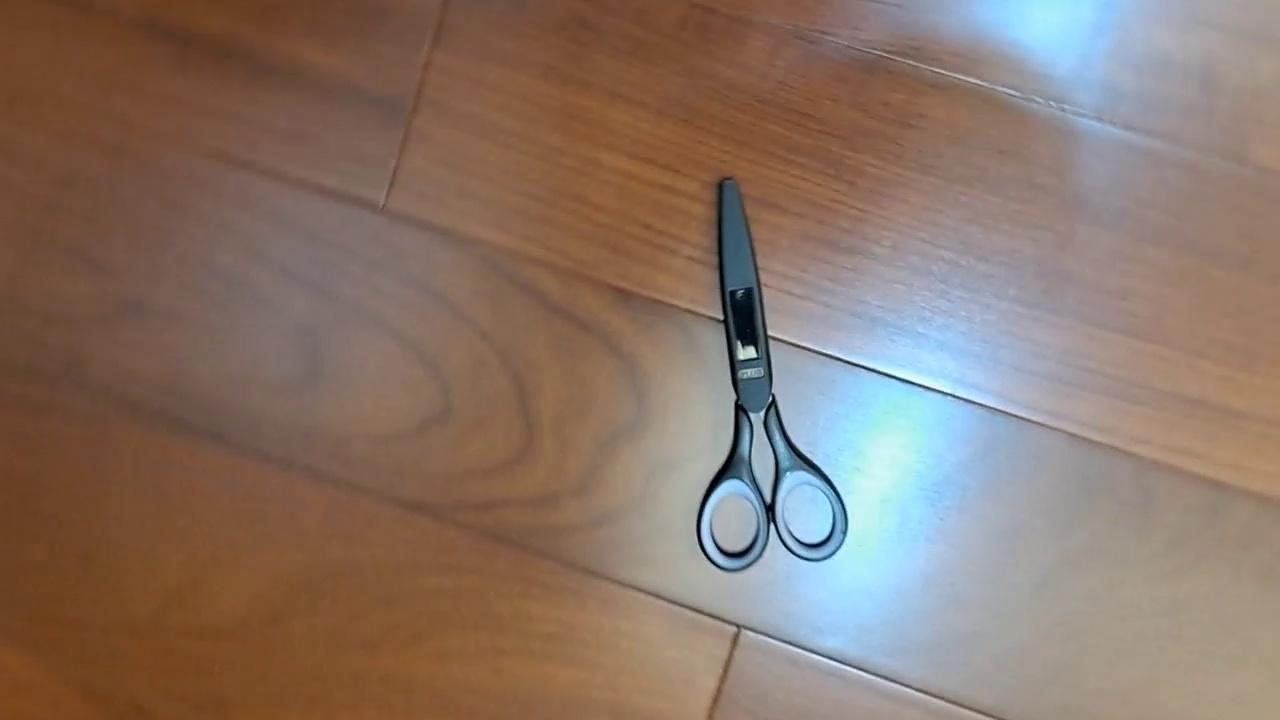scissors: (695, 176, 848, 573)
